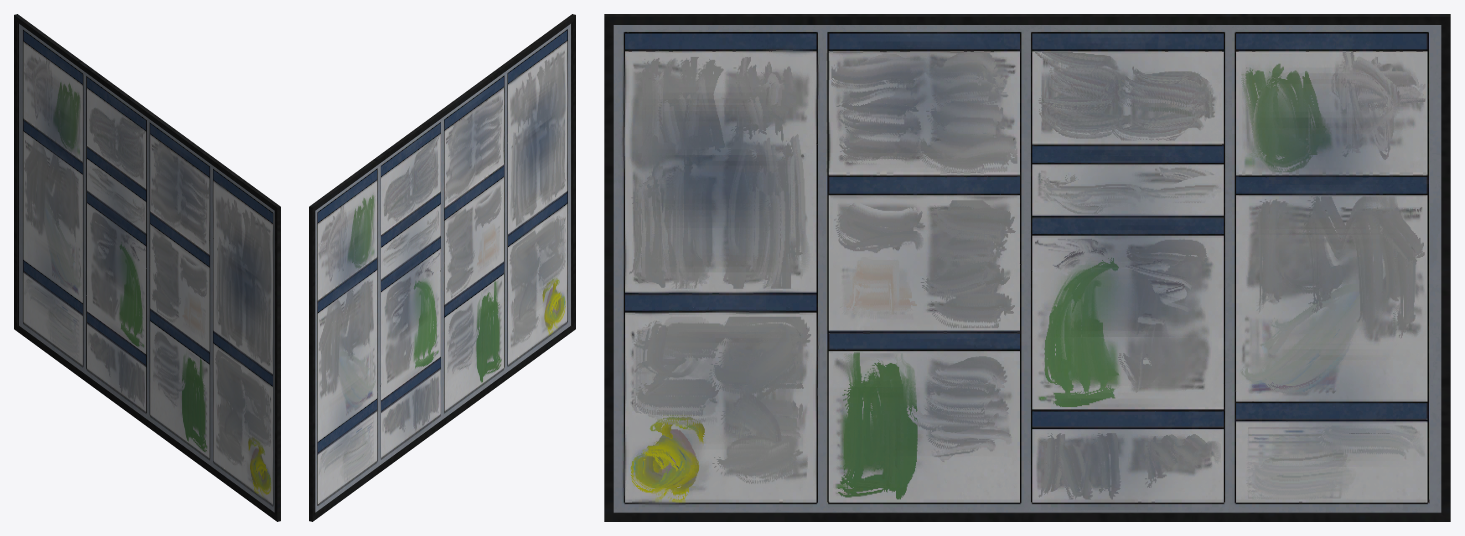
File: poster_science_wau.dae
The picture shows the model from 3 angles, left to right: view 1: azimuth 30°, elevation 25°; view 2: azimuth 150°, elevation 25°; view 3: azimuth 270°, elevation 25°; orthographic projection. The views are drawn at different scales.
Visible parts, largest first — view 1: polySurface254, polySurface255; view 2: polySurface254, polySurface255; view 3: polySurface254, polySurface255.
Boxes of the visible parts, x1,y1,x2,y2 form: polySurface254: (19,24,274,512); polySurface255: (14,14,280,521); polySurface254: (315,24,570,512); polySurface255: (309,14,575,521); polySurface254: (613,25,1441,512); polySurface255: (604,14,1450,521).
Bounding box in the file's own units: 1.25 × 105 × 159.
